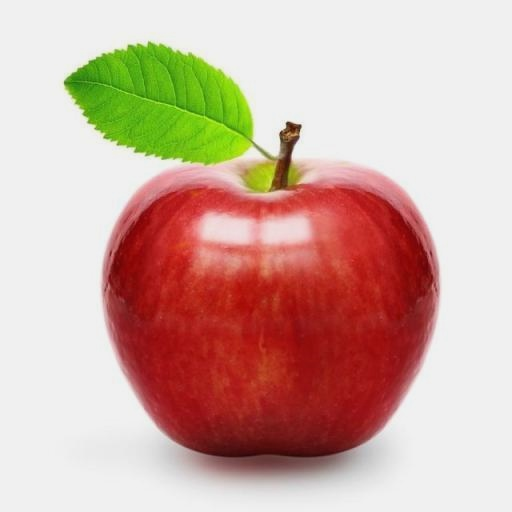fruit: (49, 149, 170, 512)
